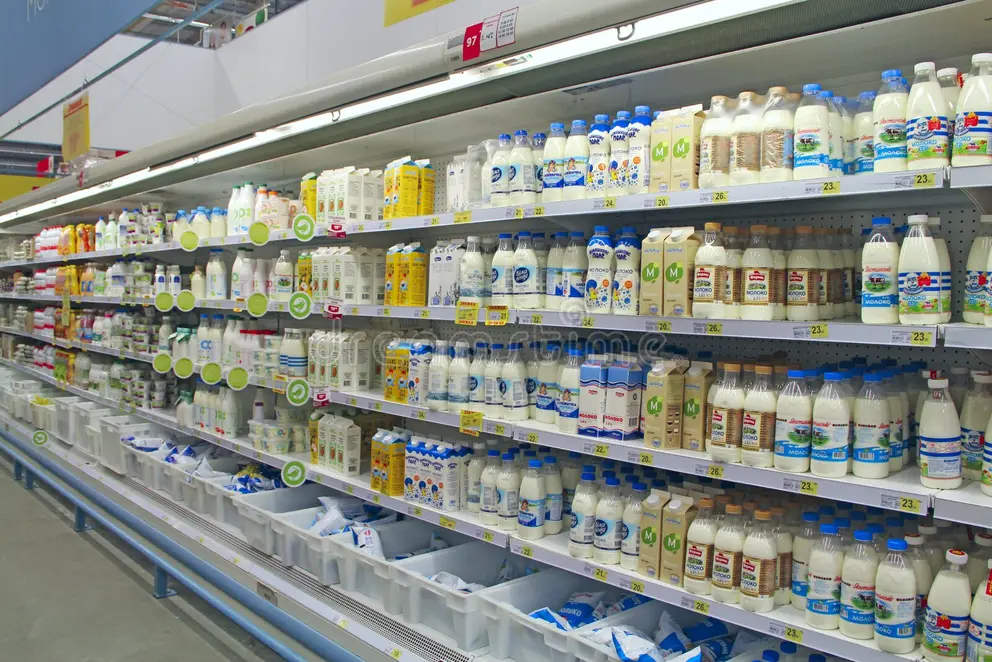milk: (899, 215, 940, 324), (908, 62, 949, 168), (811, 373, 850, 476), (693, 224, 726, 316), (586, 226, 613, 312)
